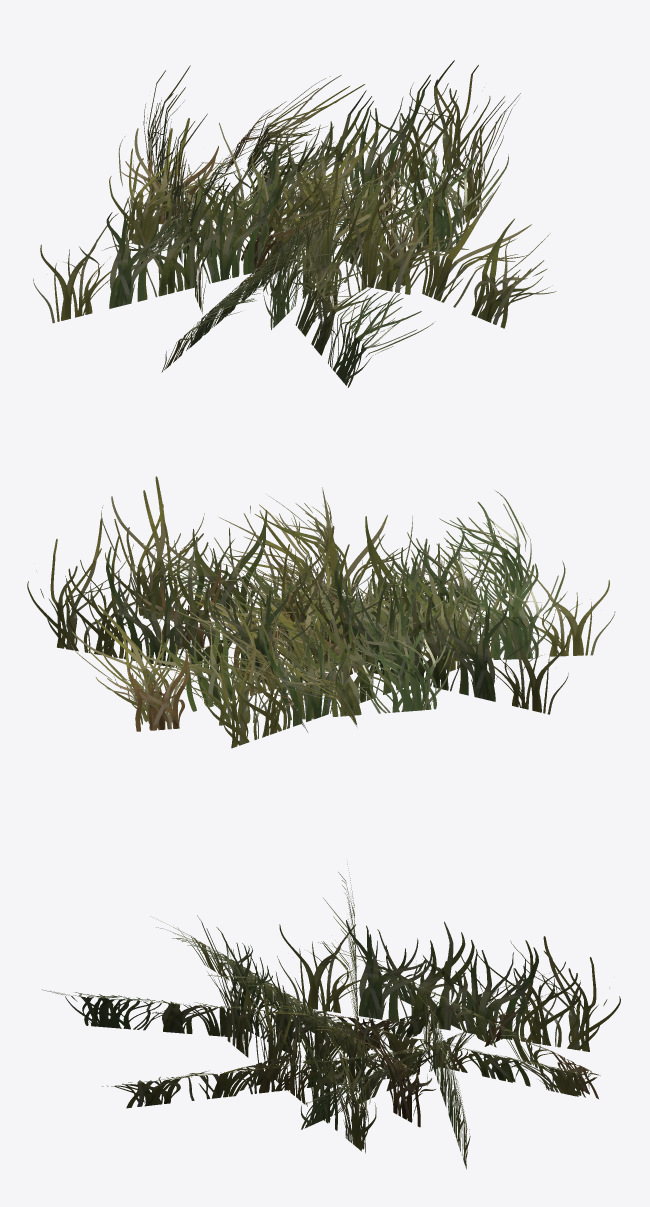
The model's file is realtime_grass.glb.
3 renders of one model, top to bottom at view 1: azimuth 30°, elevation 25°; view 2: azimuth 150°, elevation 25°; view 3: azimuth 270°, elevation 25°, orthographic. The views are drawn at different scales.
Parts seen in each view (by area): view 1: Plane|Plate3.003|Dupli|524.0.0.0.0.0.0.0.0.0_Plate3_0, Plane|Plate1.002|Dupli|527.0.0.0.0.0.0.0.0.0_Plate1_0, Plane|Plate1.002|Dupli|551.0.0.0.0.0.0.0.0.0_Plate1_0, Plane|Plate3.003|Dupli|1130.0.0.0.0.0.0.0.0.0_Plate3_0, Plane|Plate1.003|Dupli|528.0.0.0.0.0.0.0.0.0_Plate1_0, Plane|Plate2.002|Dupli|550.0.0.0.0.0.0.0.0.0_Plate2_0, Plane|Plate2.002|Dupli|1084.0.0.0.0.0.0.0.0.0_Plate2_0, Plane|Plate2.003|Dupli|529.0.0.0.0.0.0.0.0.0_Plate2_0, Plane|Plate1.002|Dupli|1085.0.0.0.0.0.0.0.0.0_Plate1_0, Plane|Plate3.003|Dupli|1046.0.0.0.0.0.0.0.0.0_Plate3_0, Plane|Plate3.002|Dupli|525.0.0.0.0.0.0.0.0.0_Plate3_0, Plane|Plate2.002|Dupli|526.0.0.0.0.0.0.0.0.0_Plate2_0 (+1 smaller); view 2: Plane|Plate3.003|Dupli|1130.0.0.0.0.0.0.0.0.0_Plate3_0, Plane|Plate3.003|Dupli|1046.0.0.0.0.0.0.0.0.0_Plate3_0, Plane|Plate3.003|Dupli|524.0.0.0.0.0.0.0.0.0_Plate3_0, Plane|Plate1.003|Dupli|528.0.0.0.0.0.0.0.0.0_Plate1_0, Plane|Plate2.002|Dupli|1048.0.0.0.0.0.0.0.0.0_Plate2_0, Plane|Plate1.002|Dupli|1085.0.0.0.0.0.0.0.0.0_Plate1_0, Plane|Plate3.002|Dupli|525.0.0.0.0.0.0.0.0.0_Plate3_0, Plane|Plate2.002|Dupli|526.0.0.0.0.0.0.0.0.0_Plate2_0, Plane|Plate2.003|Dupli|529.0.0.0.0.0.0.0.0.0_Plate2_0, Plane|Plate2.002|Dupli|550.0.0.0.0.0.0.0.0.0_Plate2_0, Plane|Plate1.002|Dupli|551.0.0.0.0.0.0.0.0.0_Plate1_0, Plane|Plate1.002|Dupli|527.0.0.0.0.0.0.0.0.0_Plate1_0 (+1 smaller); view 3: Plane|Plate3.003|Dupli|1046.0.0.0.0.0.0.0.0.0_Plate3_0, Plane|Plate1.003|Dupli|528.0.0.0.0.0.0.0.0.0_Plate1_0, Plane|Plate2.003|Dupli|529.0.0.0.0.0.0.0.0.0_Plate2_0, Plane|Plate1.002|Dupli|551.0.0.0.0.0.0.0.0.0_Plate1_0, Plane|Plate2.002|Dupli|550.0.0.0.0.0.0.0.0.0_Plate2_0, Plane|Plate1.002|Dupli|1085.0.0.0.0.0.0.0.0.0_Plate1_0, Plane|Plate2.002|Dupli|1084.0.0.0.0.0.0.0.0.0_Plate2_0, Plane|Plate2.002|Dupli|1048.0.0.0.0.0.0.0.0.0_Plate2_0, Plane|Plate1.002|Dupli|527.0.0.0.0.0.0.0.0.0_Plate1_0, Plane|Plate3.003|Dupli|1130.0.0.0.0.0.0.0.0.0_Plate3_0, Plane|Plate3.002|Dupli|525.0.0.0.0.0.0.0.0.0_Plate3_0, Plane|Plate2.002|Dupli|526.0.0.0.0.0.0.0.0.0_Plate2_0 (+1 smaller).
Part boxes in pixels (box(x1,y1,x2,y2)): Plane|Plate3.003|Dupli|524.0.0.0.0.0.0.0.0.0_Plate3_0: box(33, 146, 359, 323); Plane|Plate1.002|Dupli|527.0.0.0.0.0.0.0.0.0_Plate1_0: box(109, 118, 453, 294); Plane|Plate1.002|Dupli|551.0.0.0.0.0.0.0.0.0_Plate1_0: box(285, 124, 556, 328); Plane|Plate3.003|Dupli|1130.0.0.0.0.0.0.0.0.0_Plate3_0: box(190, 60, 490, 243); Plane|Plate1.003|Dupli|528.0.0.0.0.0.0.0.0.0_Plate1_0: box(292, 93, 520, 322); Plane|Plate2.002|Dupli|550.0.0.0.0.0.0.0.0.0_Plate2_0: box(241, 201, 435, 387); Plane|Plate2.002|Dupli|1084.0.0.0.0.0.0.0.0.0_Plate2_0: box(121, 122, 508, 251); Plane|Plate2.003|Dupli|529.0.0.0.0.0.0.0.0.0_Plate2_0: box(263, 129, 410, 329); Plane|Plate1.002|Dupli|1085.0.0.0.0.0.0.0.0.0_Plate1_0: box(247, 75, 367, 291); Plane|Plate3.003|Dupli|1046.0.0.0.0.0.0.0.0.0_Plate3_0: box(143, 65, 213, 313); Plane|Plate3.002|Dupli|525.0.0.0.0.0.0.0.0.0_Plate3_0: box(161, 197, 387, 372); Plane|Plate2.002|Dupli|526.0.0.0.0.0.0.0.0.0_Plate2_0: box(186, 180, 373, 350); Plane|Plate3.003|Dupli|1130.0.0.0.0.0.0.0.0.0_Plate3_0: box(27, 518, 354, 692); Plane|Plate3.003|Dupli|1046.0.0.0.0.0.0.0.0.0_Plate3_0: box(204, 578, 479, 748); Plane|Plate3.003|Dupli|524.0.0.0.0.0.0.0.0.0_Plate3_0: box(259, 526, 568, 714); Plane|Plate1.003|Dupli|528.0.0.0.0.0.0.0.0.0_Plate1_0: box(101, 476, 467, 622); Plane|Plate2.002|Dupli|1048.0.0.0.0.0.0.0.0.0_Plate2_0: box(105, 612, 457, 731); Plane|Plate1.002|Dupli|1085.0.0.0.0.0.0.0.0.0_Plate1_0: box(70, 572, 389, 724); Plane|Plate3.002|Dupli|525.0.0.0.0.0.0.0.0.0_Plate3_0: box(260, 544, 615, 661); Plane|Plate2.002|Dupli|526.0.0.0.0.0.0.0.0.0_Plate2_0: box(209, 560, 565, 668); Plane|Plate2.003|Dupli|529.0.0.0.0.0.0.0.0.0_Plate2_0: box(134, 526, 495, 649); Plane|Plate2.002|Dupli|550.0.0.0.0.0.0.0.0.0_Plate2_0: box(295, 490, 531, 680); Plane|Plate1.002|Dupli|551.0.0.0.0.0.0.0.0.0_Plate1_0: box(167, 494, 344, 656); Plane|Plate1.002|Dupli|527.0.0.0.0.0.0.0.0.0_Plate1_0: box(236, 557, 356, 726); Plane|Plate3.003|Dupli|1046.0.0.0.0.0.0.0.0.0_Plate3_0: box(277, 920, 620, 1051); Plane|Plate1.003|Dupli|528.0.0.0.0.0.0.0.0.0_Plate1_0: box(207, 953, 376, 1153); Plane|Plate2.003|Dupli|529.0.0.0.0.0.0.0.0.0_Plate2_0: box(197, 915, 435, 1127); Plane|Plate1.002|Dupli|551.0.0.0.0.0.0.0.0.0_Plate1_0: box(102, 1041, 467, 1108); Plane|Plate2.002|Dupli|550.0.0.0.0.0.0.0.0.0_Plate2_0: box(42, 989, 412, 1049); Plane|Plate1.002|Dupli|1085.0.0.0.0.0.0.0.0.0_Plate1_0: box(292, 1012, 597, 1097); Plane|Plate2.002|Dupli|1084.0.0.0.0.0.0.0.0.0_Plate2_0: box(300, 994, 548, 1129); Plane|Plate2.002|Dupli|1048.0.0.0.0.0.0.0.0.0_Plate2_0: box(318, 942, 600, 1098); Plane|Plate1.002|Dupli|527.0.0.0.0.0.0.0.0.0_Plate1_0: box(237, 973, 549, 1090); Plane|Plate3.003|Dupli|1130.0.0.0.0.0.0.0.0.0_Plate3_0: box(414, 961, 470, 1169); Plane|Plate3.002|Dupli|525.0.0.0.0.0.0.0.0.0_Plate3_0: box(150, 916, 378, 1071); Plane|Plate2.002|Dupli|526.0.0.0.0.0.0.0.0.0_Plate2_0: box(156, 927, 414, 1092).
Size of the model in its own units: 1.75 by 0.45 by 1.75.
Materials: 3 (3 with a texture image).
